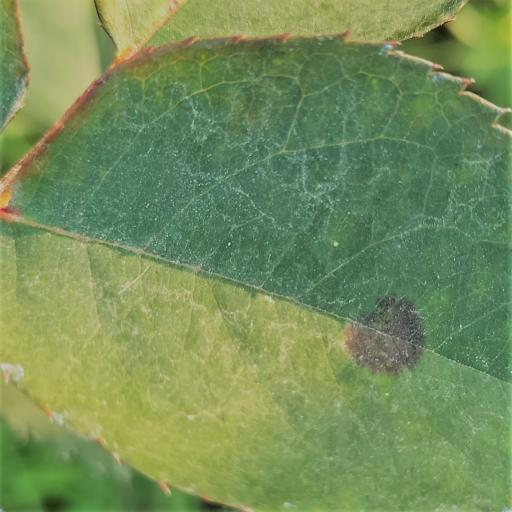black_spot: (0, 31, 512, 512)
